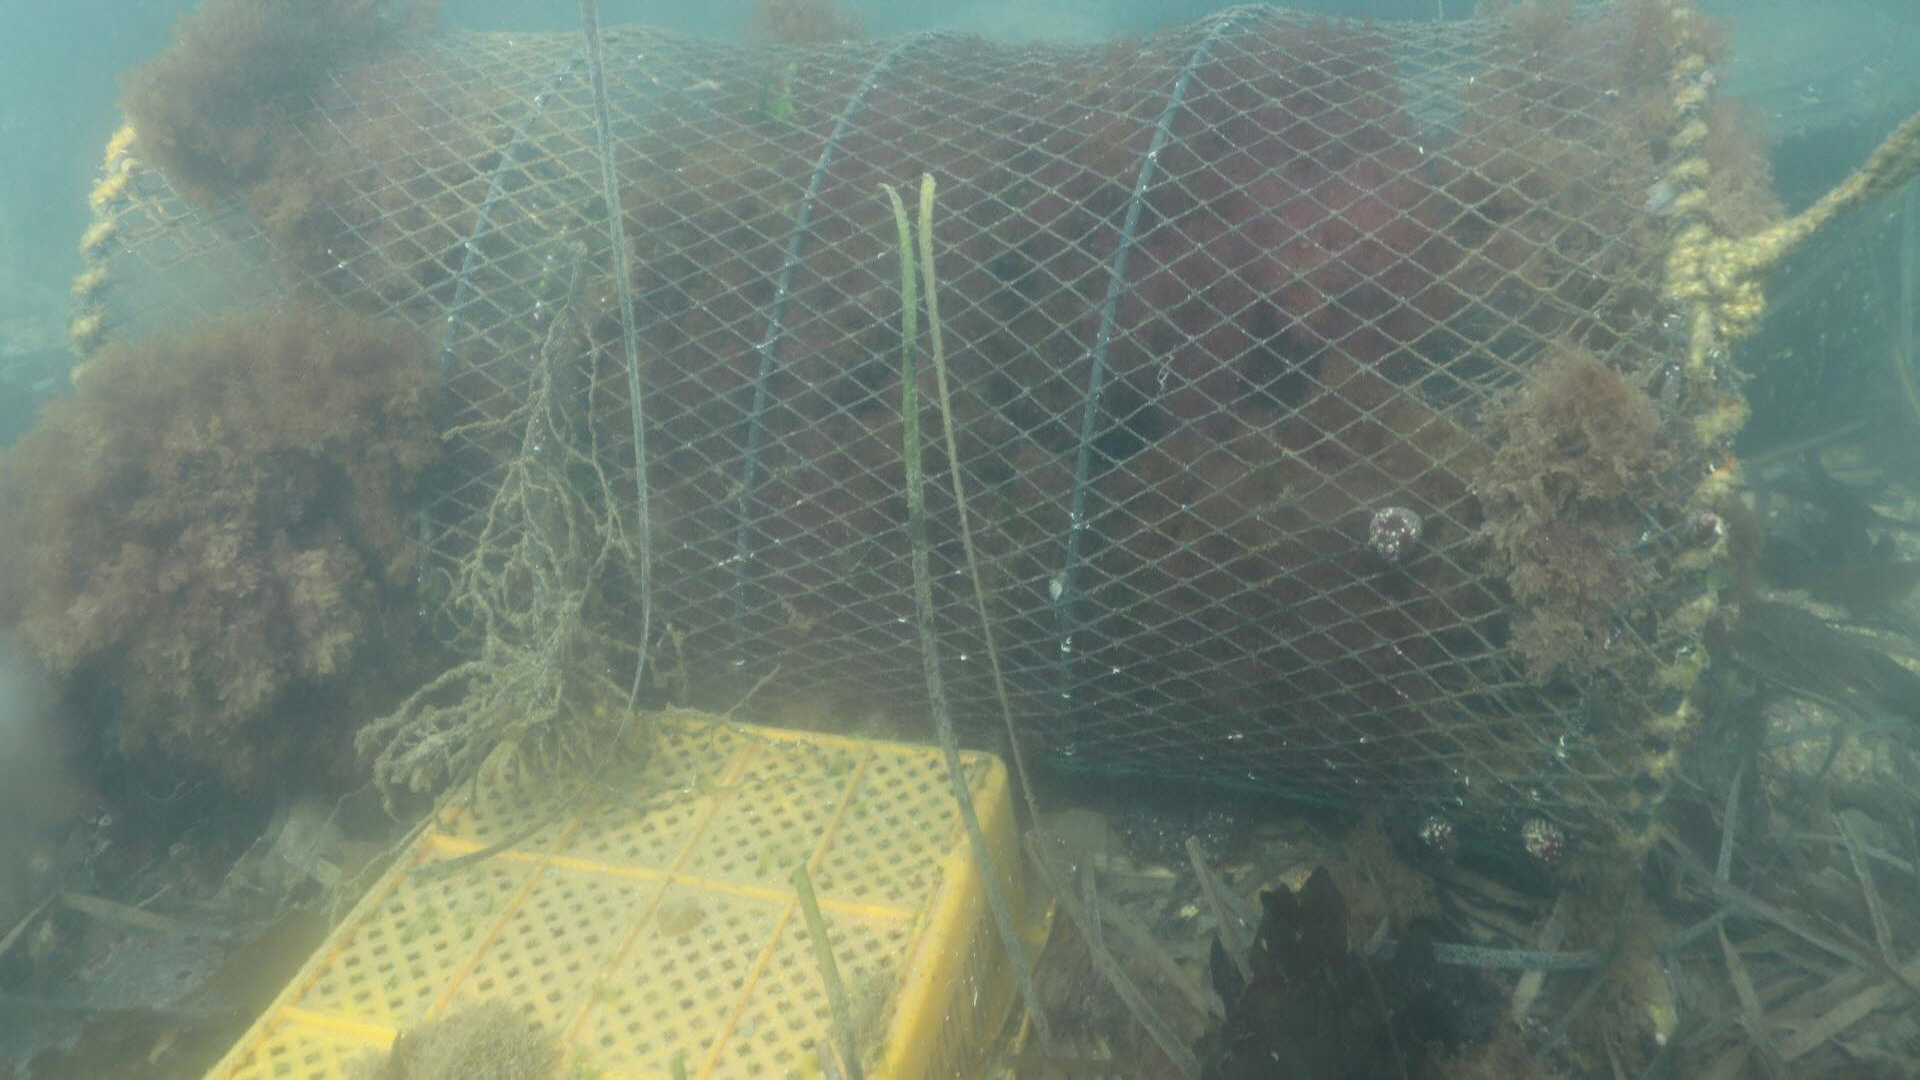bundle of ropes: (1698, 115, 1920, 343)
spring fish trap: (70, 12, 1753, 880)
